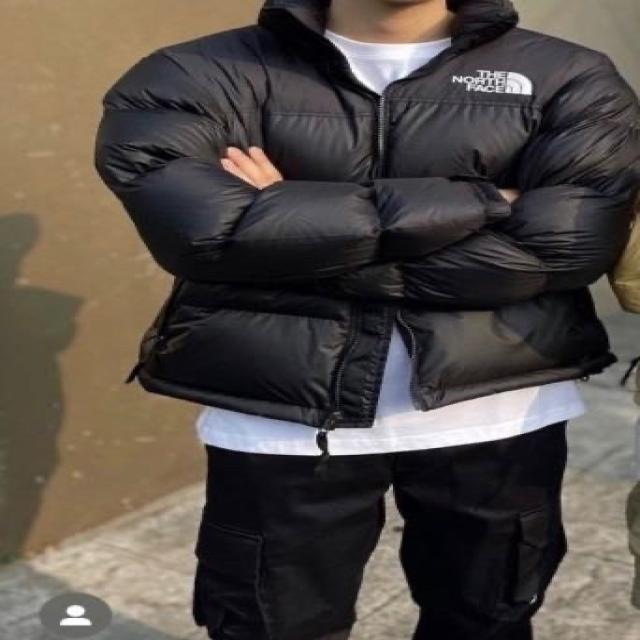cottonpants: (189, 431, 566, 640)
padding: (90, 0, 640, 429)
